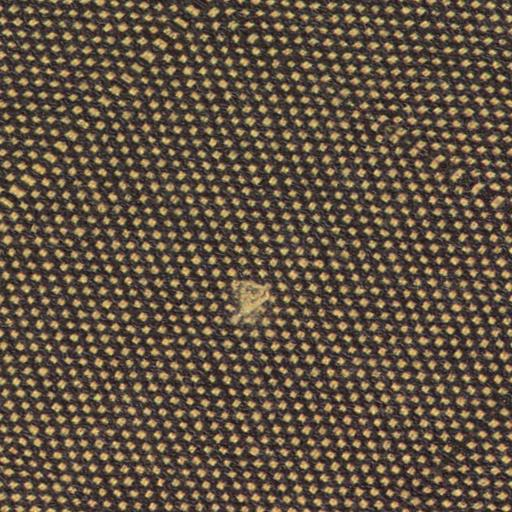knot: (221, 275, 285, 325)
